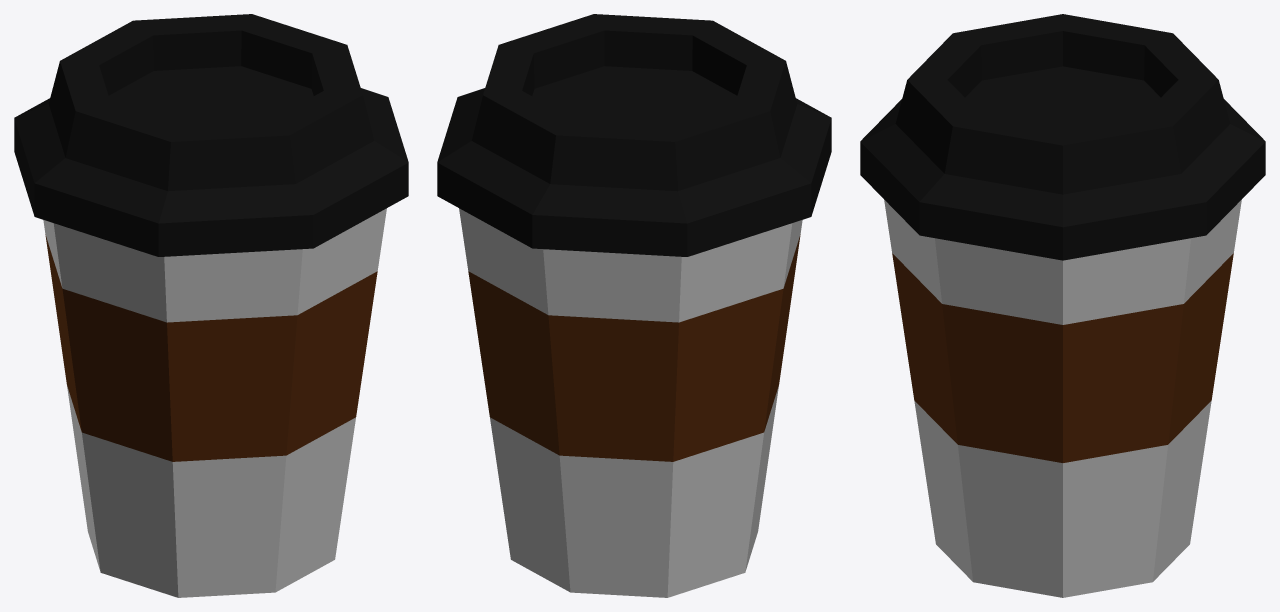
Rendered from CoffeeCup.fbx.
3 views of the same model, side by side, from view 1: azimuth 30°, elevation 25°; view 2: azimuth 150°, elevation 25°; view 3: azimuth 270°, elevation 25° (orthographic).
Visible parts, largest first — view 1: CoffeeCup; view 2: CoffeeCup; view 3: CoffeeCup.
Boxes of the visible parts, x1,y1,x2,y2 form: CoffeeCup: (14, 14, 408, 597); CoffeeCup: (437, 14, 831, 597); CoffeeCup: (860, 14, 1265, 597).
Bounding box in the file's own units: 64.7 × 64.7 × 81.74.
